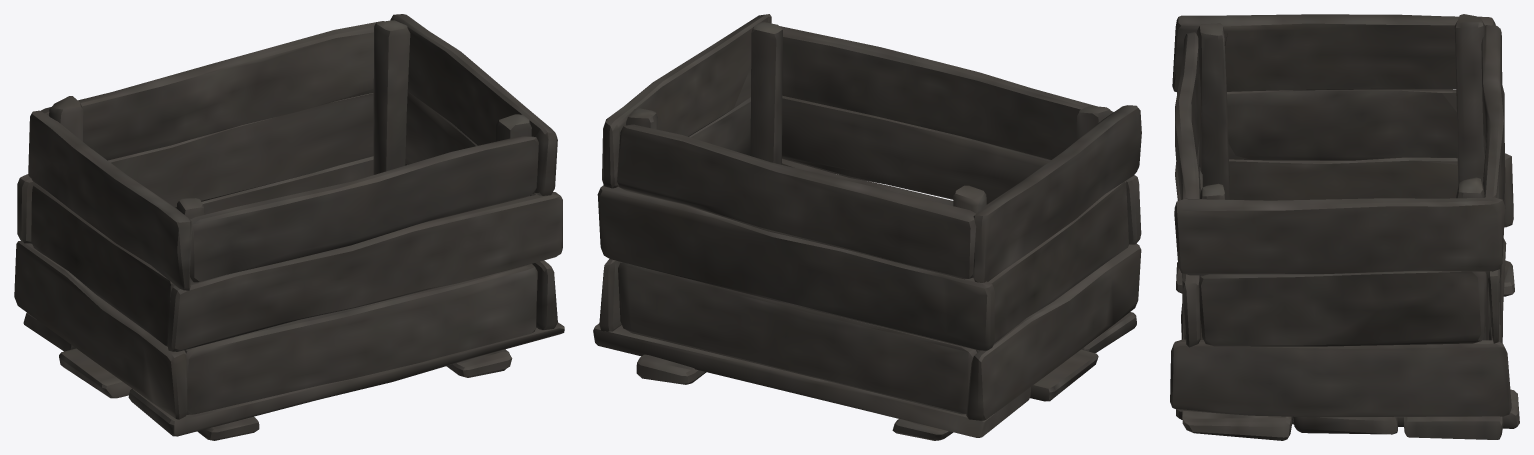
The model's file is WoodenChest_01.fbx.
3 renders of one model, left to right at view 1: azimuth 30°, elevation 25°; view 2: azimuth 150°, elevation 25°; view 3: azimuth 270°, elevation 25°, orthographic. The views are drawn at different scales.
Parts seen in each view (by area): view 1: WoodenChest_01; view 2: WoodenChest_01; view 3: WoodenChest_01.
Part boxes in pixels (x1=…): WoodenChest_01: x1=14, y1=14, x2=564, y2=440; WoodenChest_01: x1=593, y1=14, x2=1141, y2=440; WoodenChest_01: x1=1170, y1=14, x2=1519, y2=440.
Size of what is drawn, in the model's own units: 118 by 67.46 by 83.74.
